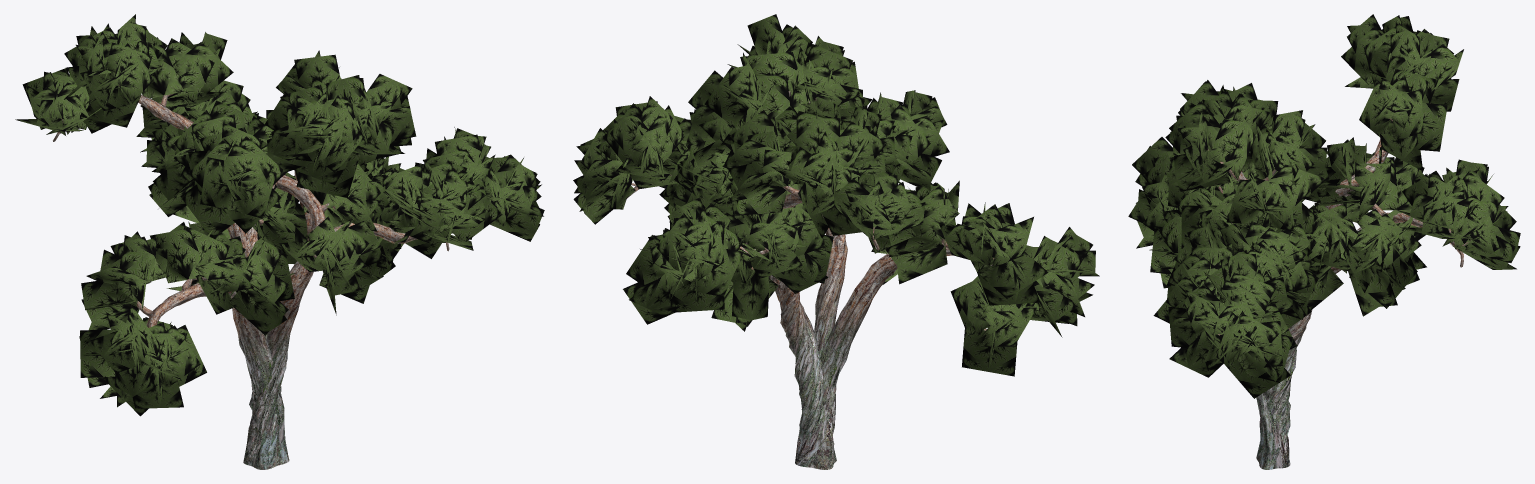
The model's file is Tree_03_v4.obj.
The picture shows the model from 3 angles, left to right: view 1: azimuth 30°, elevation 25°; view 2: azimuth 150°, elevation 25°; view 3: azimuth 270°, elevation 25°; orthographic projection. The views are drawn at different scales.
Visible parts, largest first — view 1: bark08, pine branch_t; view 2: bark08, pine branch_t; view 3: bark08, pine branch_t.
Boxes of the visible parts, box(x1,y1,x2,y2) form: bark08: box(15, 14, 544, 416); pine branch_t: box(53, 84, 449, 469); bark08: box(573, 14, 1099, 376); pine branch_t: box(626, 91, 1035, 469); bark08: box(1128, 14, 1520, 398); pine branch_t: box(1208, 103, 1471, 469).
Bounding box in the file's own units: 294 × 241 × 215.
Materials: 2 (2 with a texture image).
